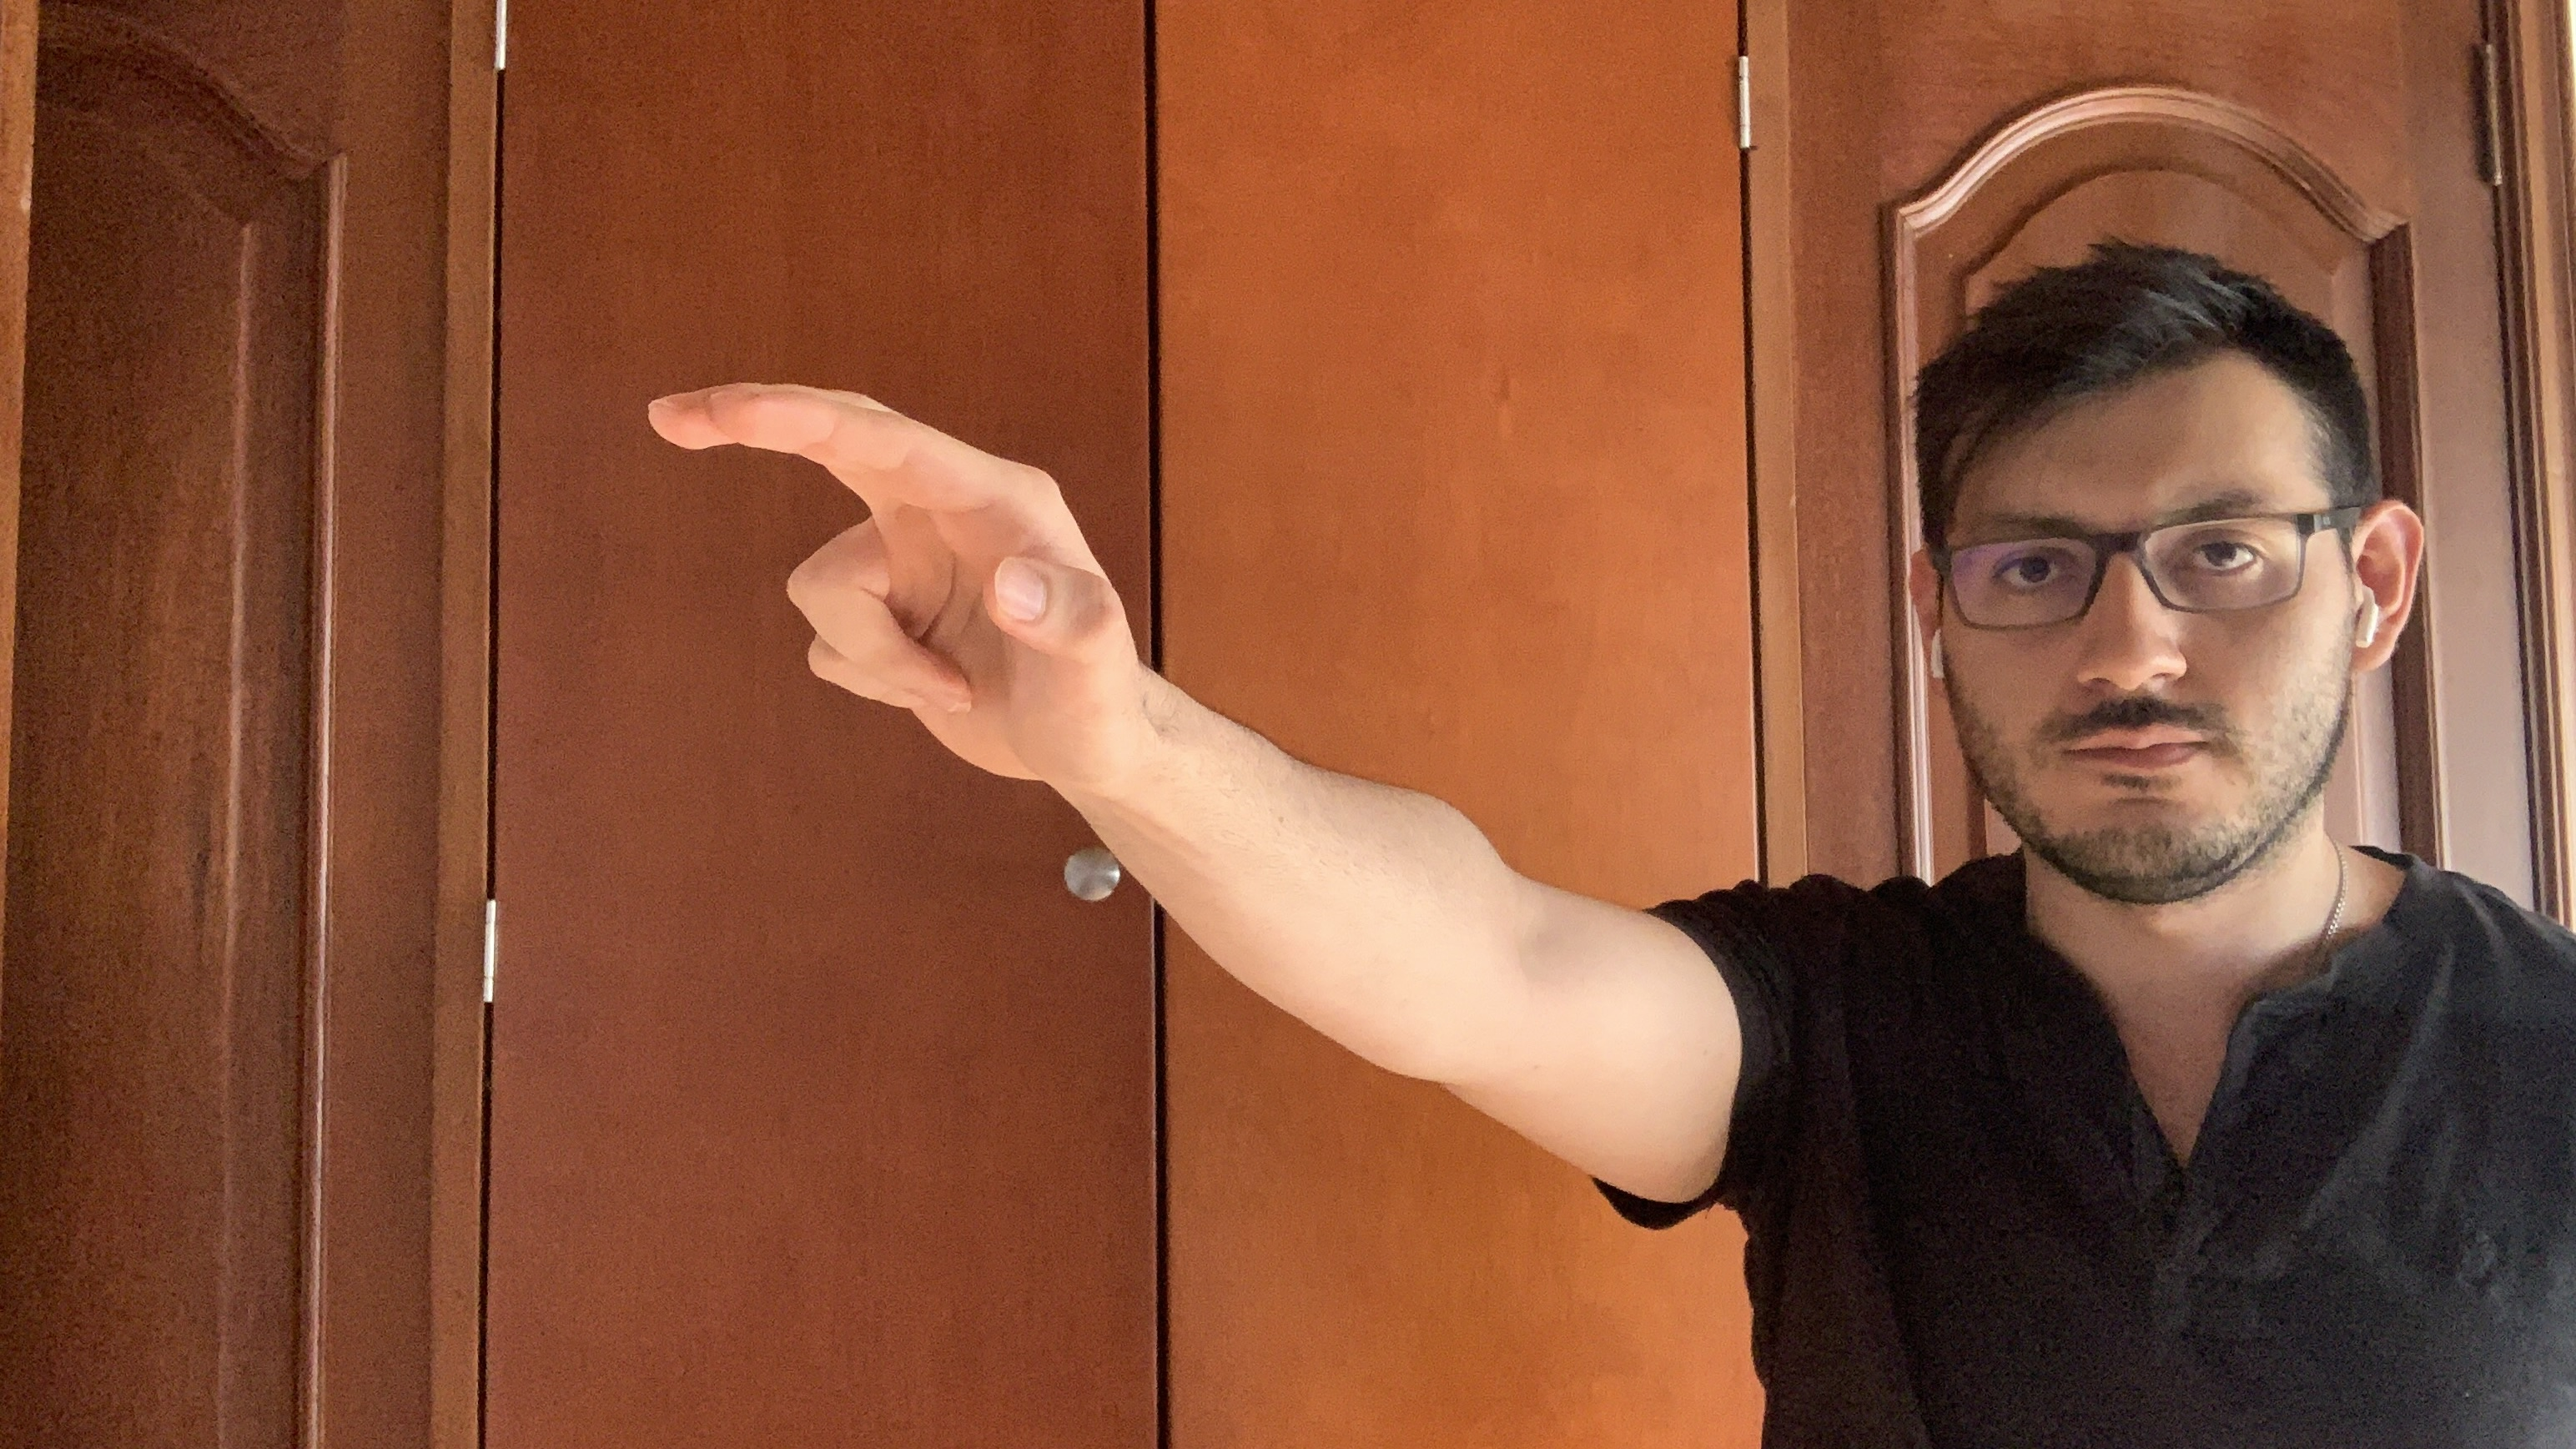No: (637, 366, 1166, 784)
